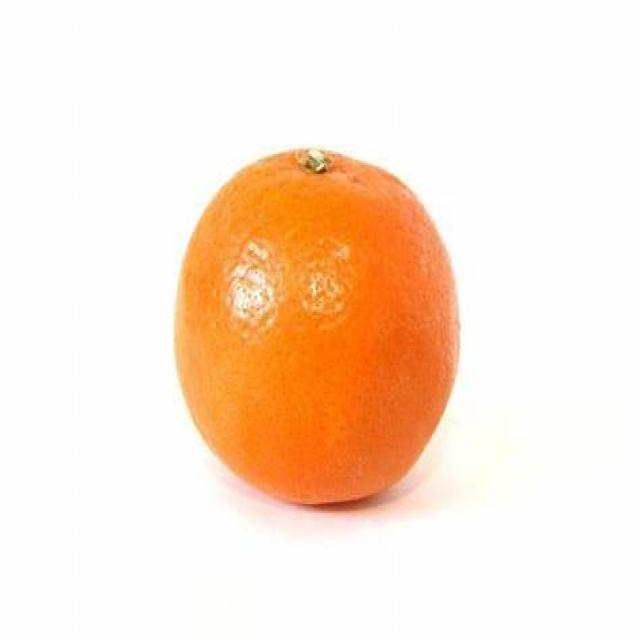Orange: (172, 147, 463, 508)
